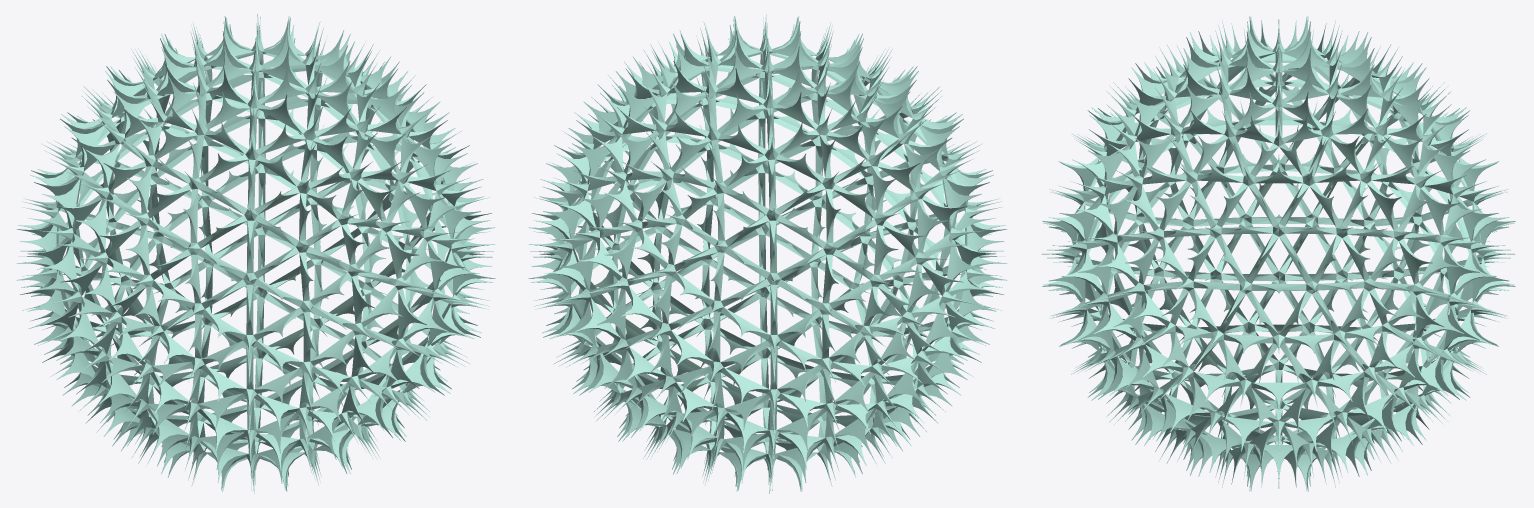
The picture shows the model from 3 angles, left to right: view 1: azimuth 30°, elevation 25°; view 2: azimuth 150°, elevation 25°; view 3: azimuth 270°, elevation 25°; orthographic projection.
Visible parts, largest first — view 1: Subdivision_Surface_1; view 2: Subdivision_Surface_1; view 3: Subdivision_Surface_1.
Boxes of the visible parts, left/top/right/bottom form: Subdivision_Surface_1: left=16, top=14, right=495, bottom=493; Subdivision_Surface_1: left=528, top=14, right=1007, bottom=493; Subdivision_Surface_1: left=1042, top=16, right=1515, bottom=491.
Bounding box in the file's own units: 70.43 × 70.43 × 70.43.
